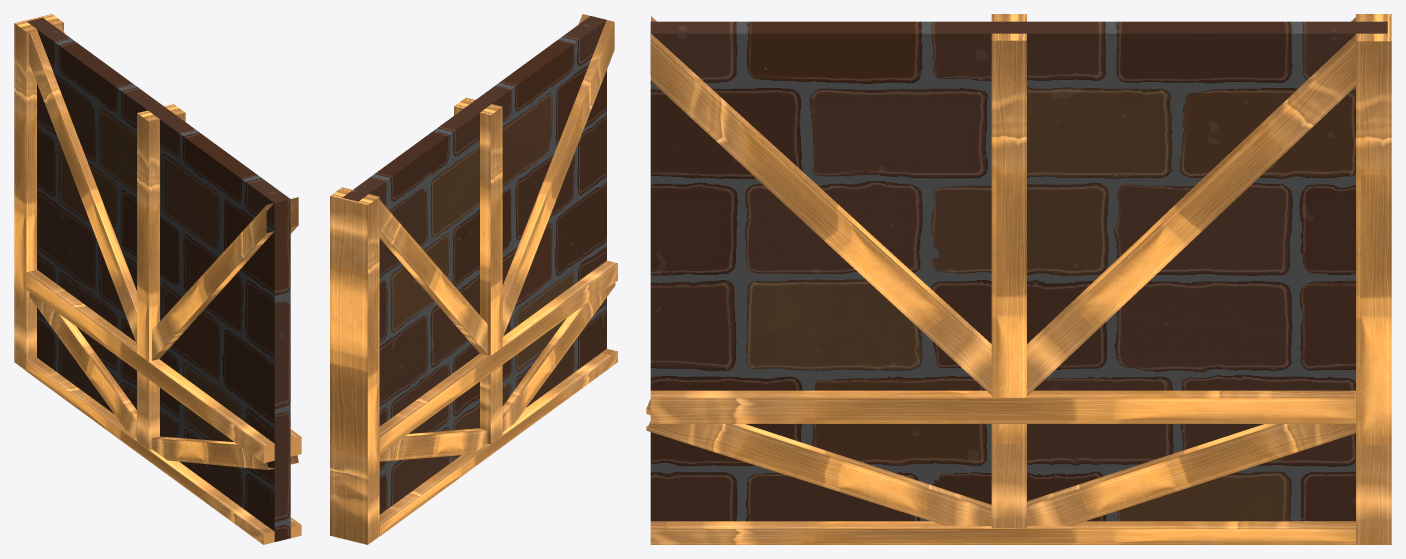
Rendered from SM_Large_Wall_06.fbx.
The picture shows the model from 3 angles, left to right: view 1: azimuth 30°, elevation 25°; view 2: azimuth 150°, elevation 25°; view 3: azimuth 270°, elevation 25°; orthographic projection. The views are drawn at different scales.
Visible parts, largest first — view 1: SM_Large_Wall_06; view 2: SM_Large_Wall_06; view 3: SM_Large_Wall_06.
Part boxes in pixels (x1,y1,x2,y2): SM_Large_Wall_06: (14,14,301,544); SM_Large_Wall_06: (330,14,617,544); SM_Large_Wall_06: (646,14,1391,544).
Size of the model in its own units: 35.24 by 300 by 402.
